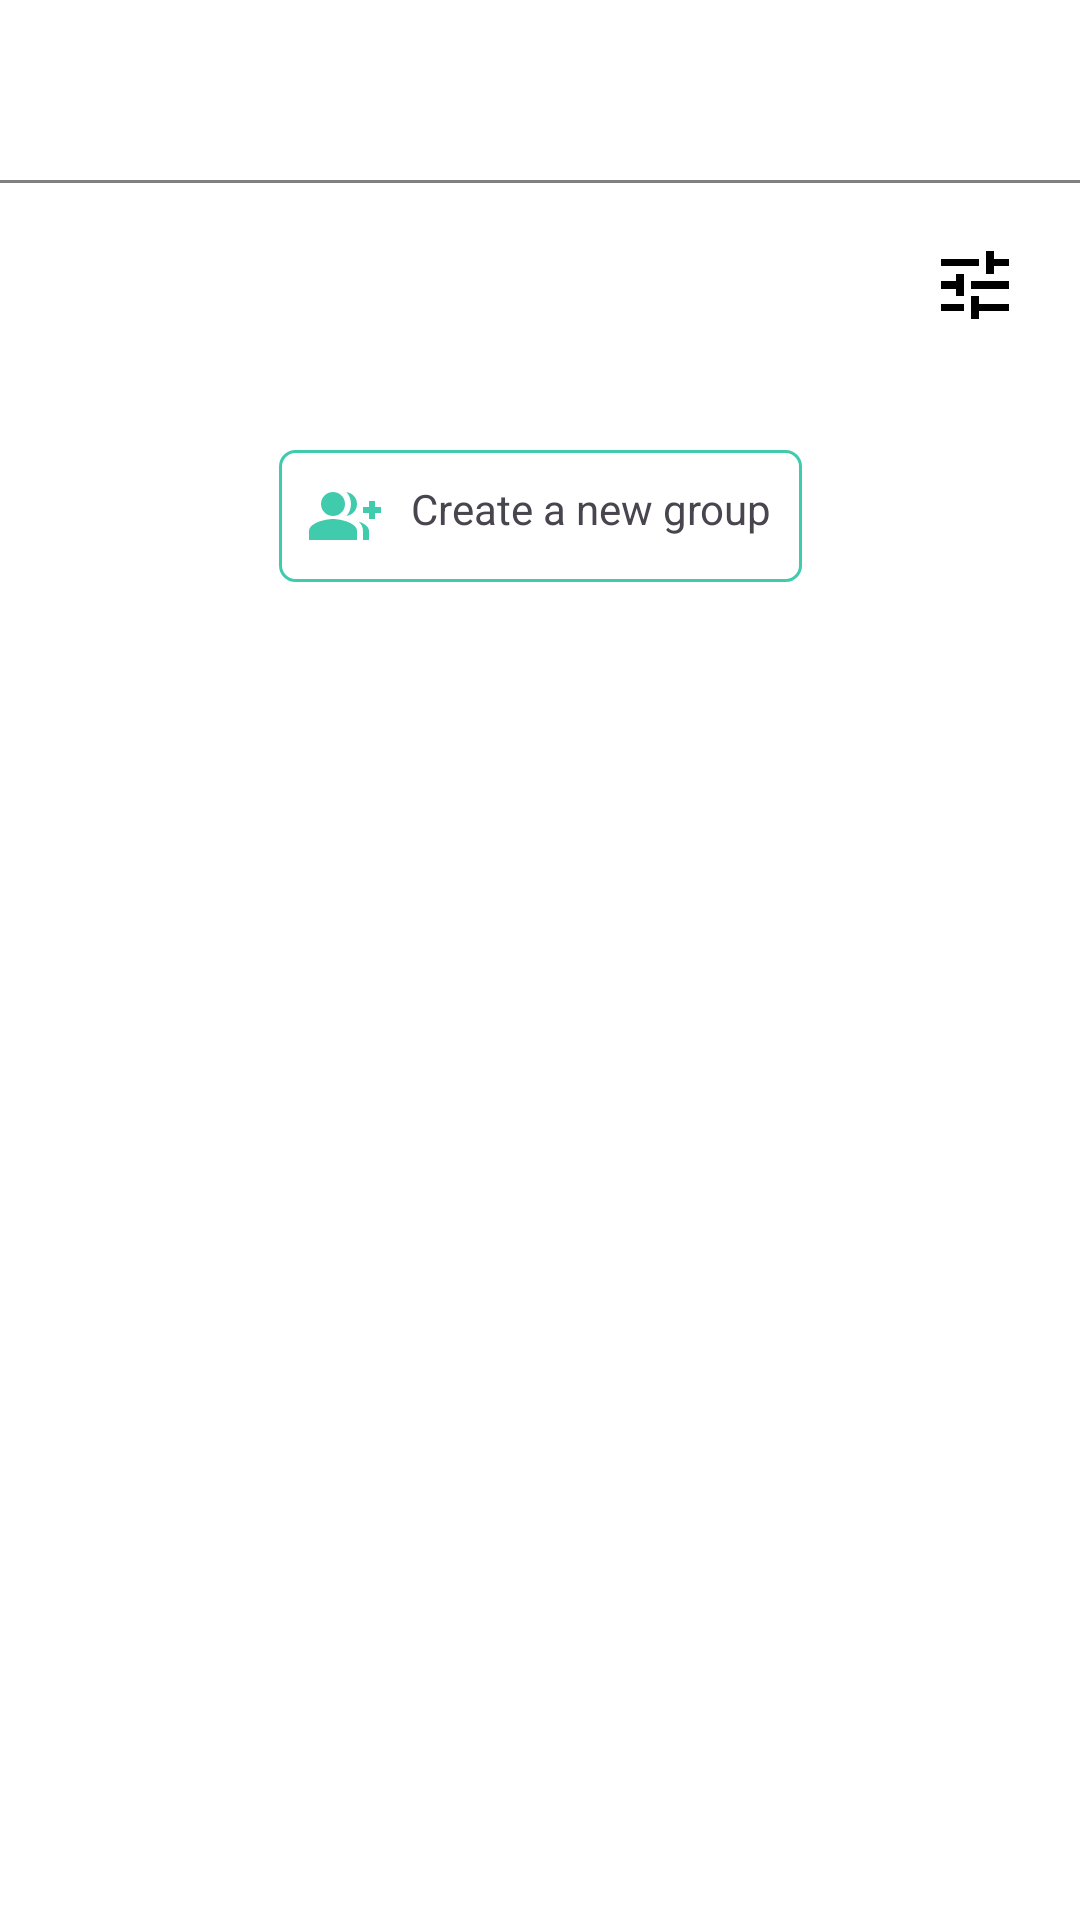

Point at icon controls on the screen. Image size 1080px×1920px, points as (x,y).
tune: (975,285)
